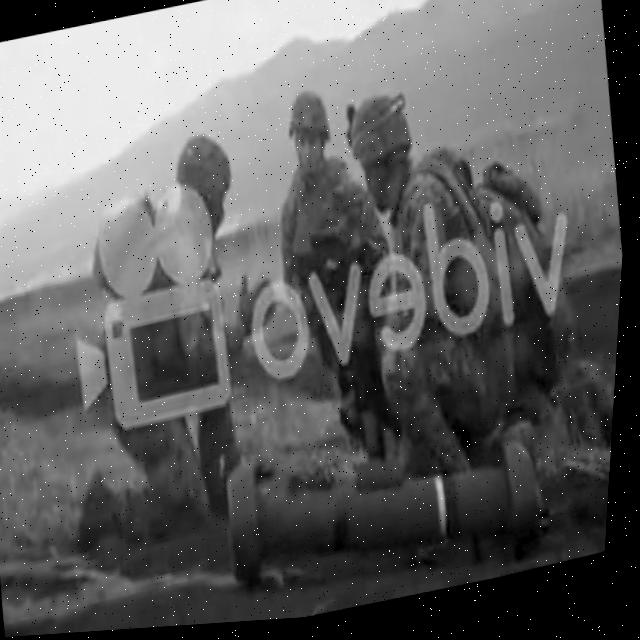rocket: (218, 400, 562, 627)
